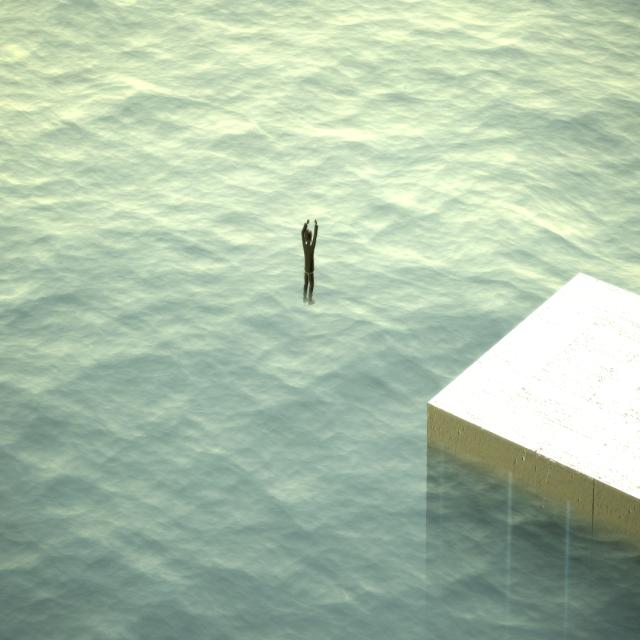Human: (301, 214, 323, 318)
